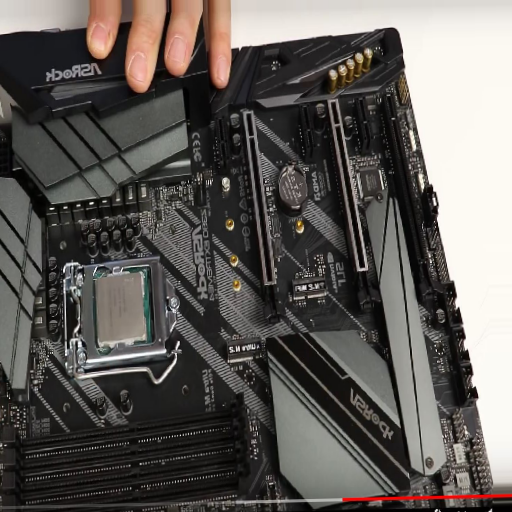CPU: (68, 255, 182, 371)
GPU: (324, 96, 385, 308), (238, 109, 288, 325)
MOTHERBOARD: (1, 30, 502, 505)
RAM: (2, 393, 258, 502)
SSD: (225, 333, 266, 371), (291, 276, 331, 305)
